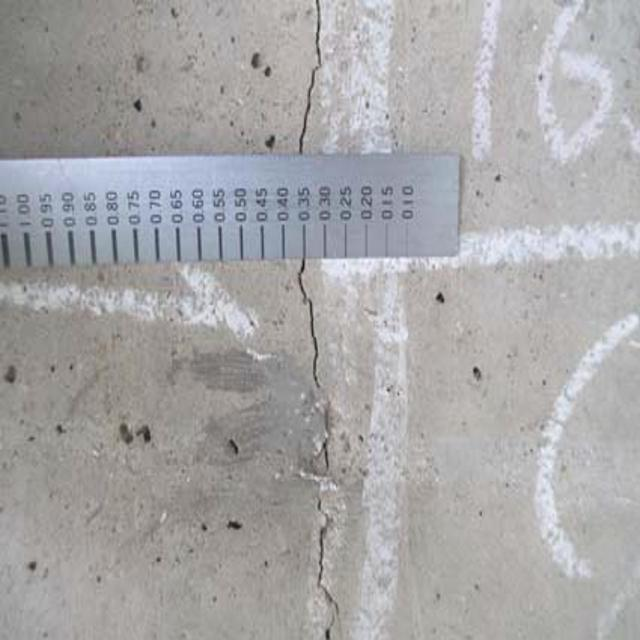crack: (284, 270, 367, 640), (280, 6, 346, 164)
